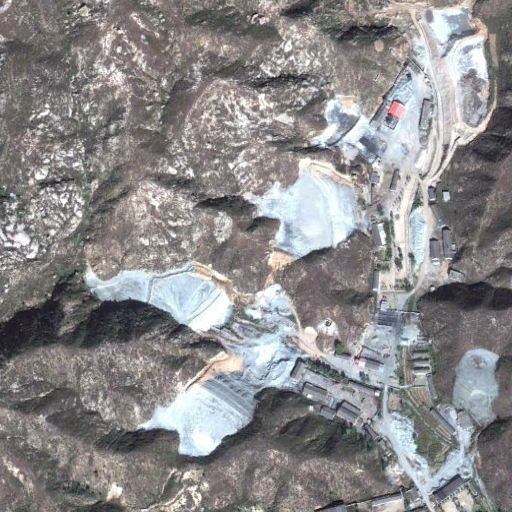tp: (237, 158, 365, 269), (135, 366, 259, 455), (79, 261, 229, 332), (446, 30, 496, 133)
